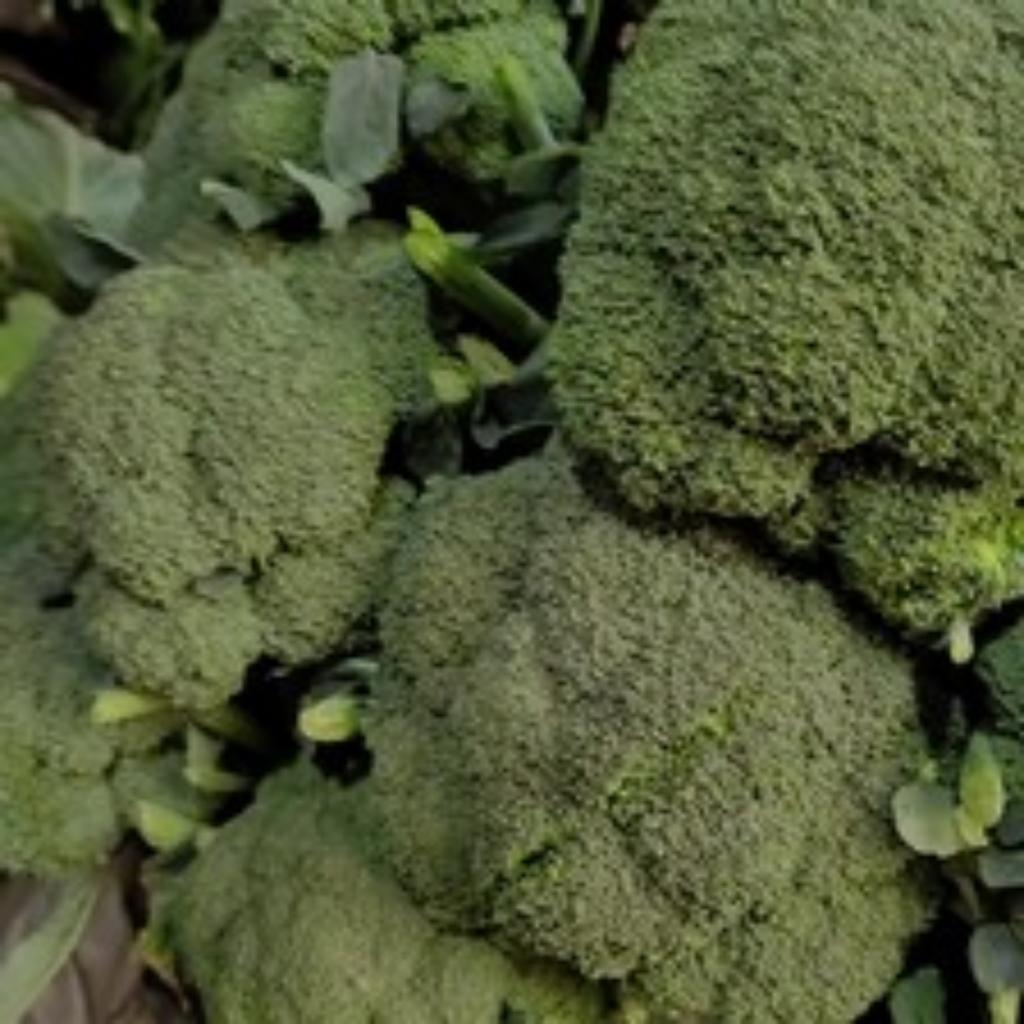Broccoli: (370, 438, 924, 1024), (370, 444, 922, 1024), (36, 226, 434, 711), (36, 226, 432, 711), (164, 760, 512, 1024), (164, 760, 512, 1024), (0, 538, 120, 875), (0, 538, 120, 875)
